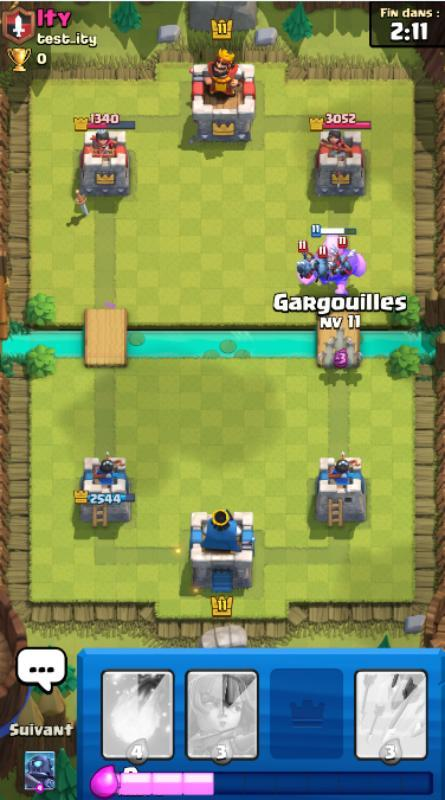gargouille: (330, 235, 358, 277), (309, 245, 336, 283), (297, 240, 318, 279), (317, 341, 338, 372), (328, 325, 353, 350), (343, 342, 363, 371)
geant: (297, 224, 368, 296)
